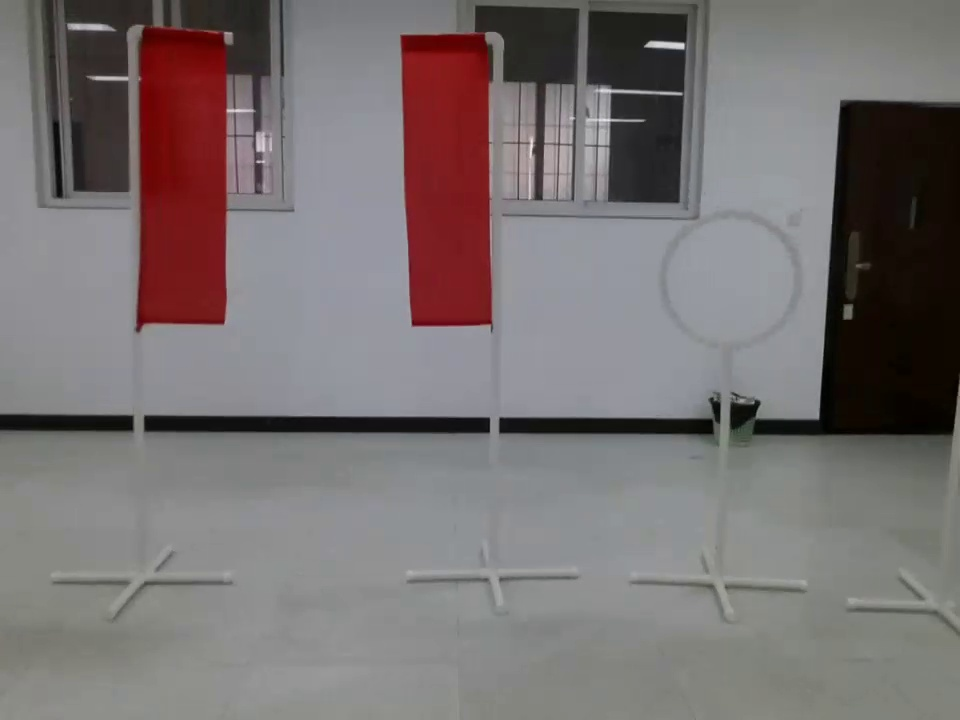qi: (126, 27, 244, 327), (398, 26, 509, 335)
quan: (654, 197, 810, 368)
